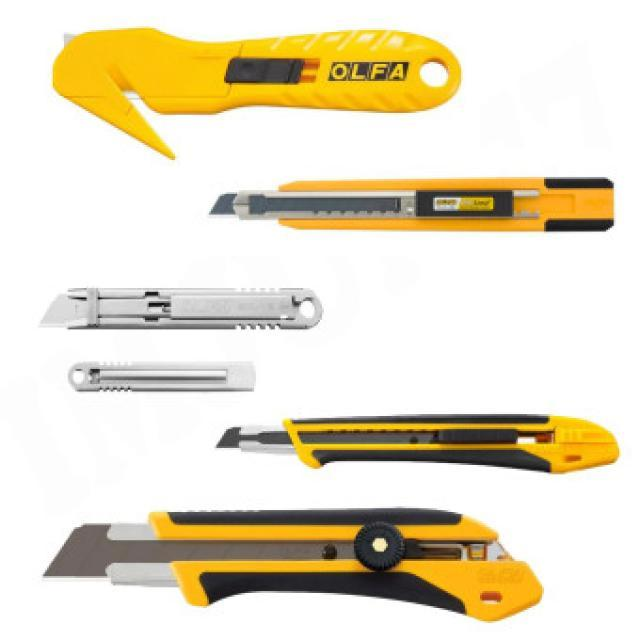cutter: (46, 5, 483, 168), (35, 488, 551, 626), (212, 398, 626, 492), (193, 171, 624, 251), (35, 280, 333, 340)
